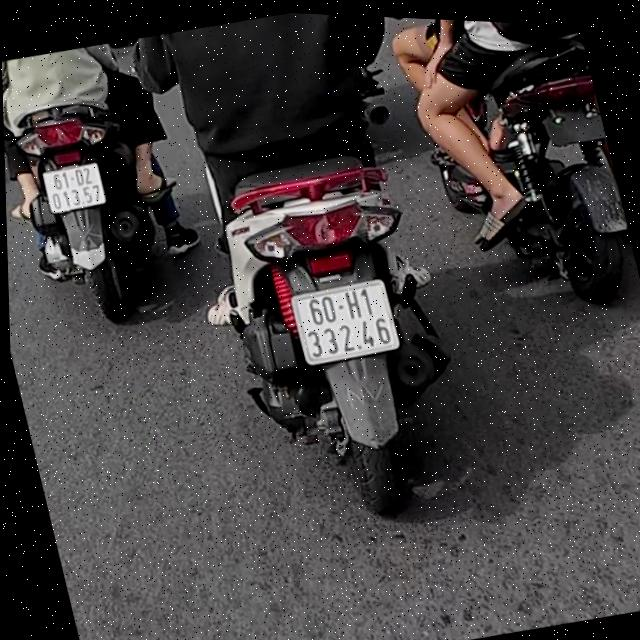motorcycle: (195, 142, 486, 539), (461, 33, 640, 328), (2, 82, 183, 339)
plate: (282, 273, 403, 372), (33, 154, 112, 217)
